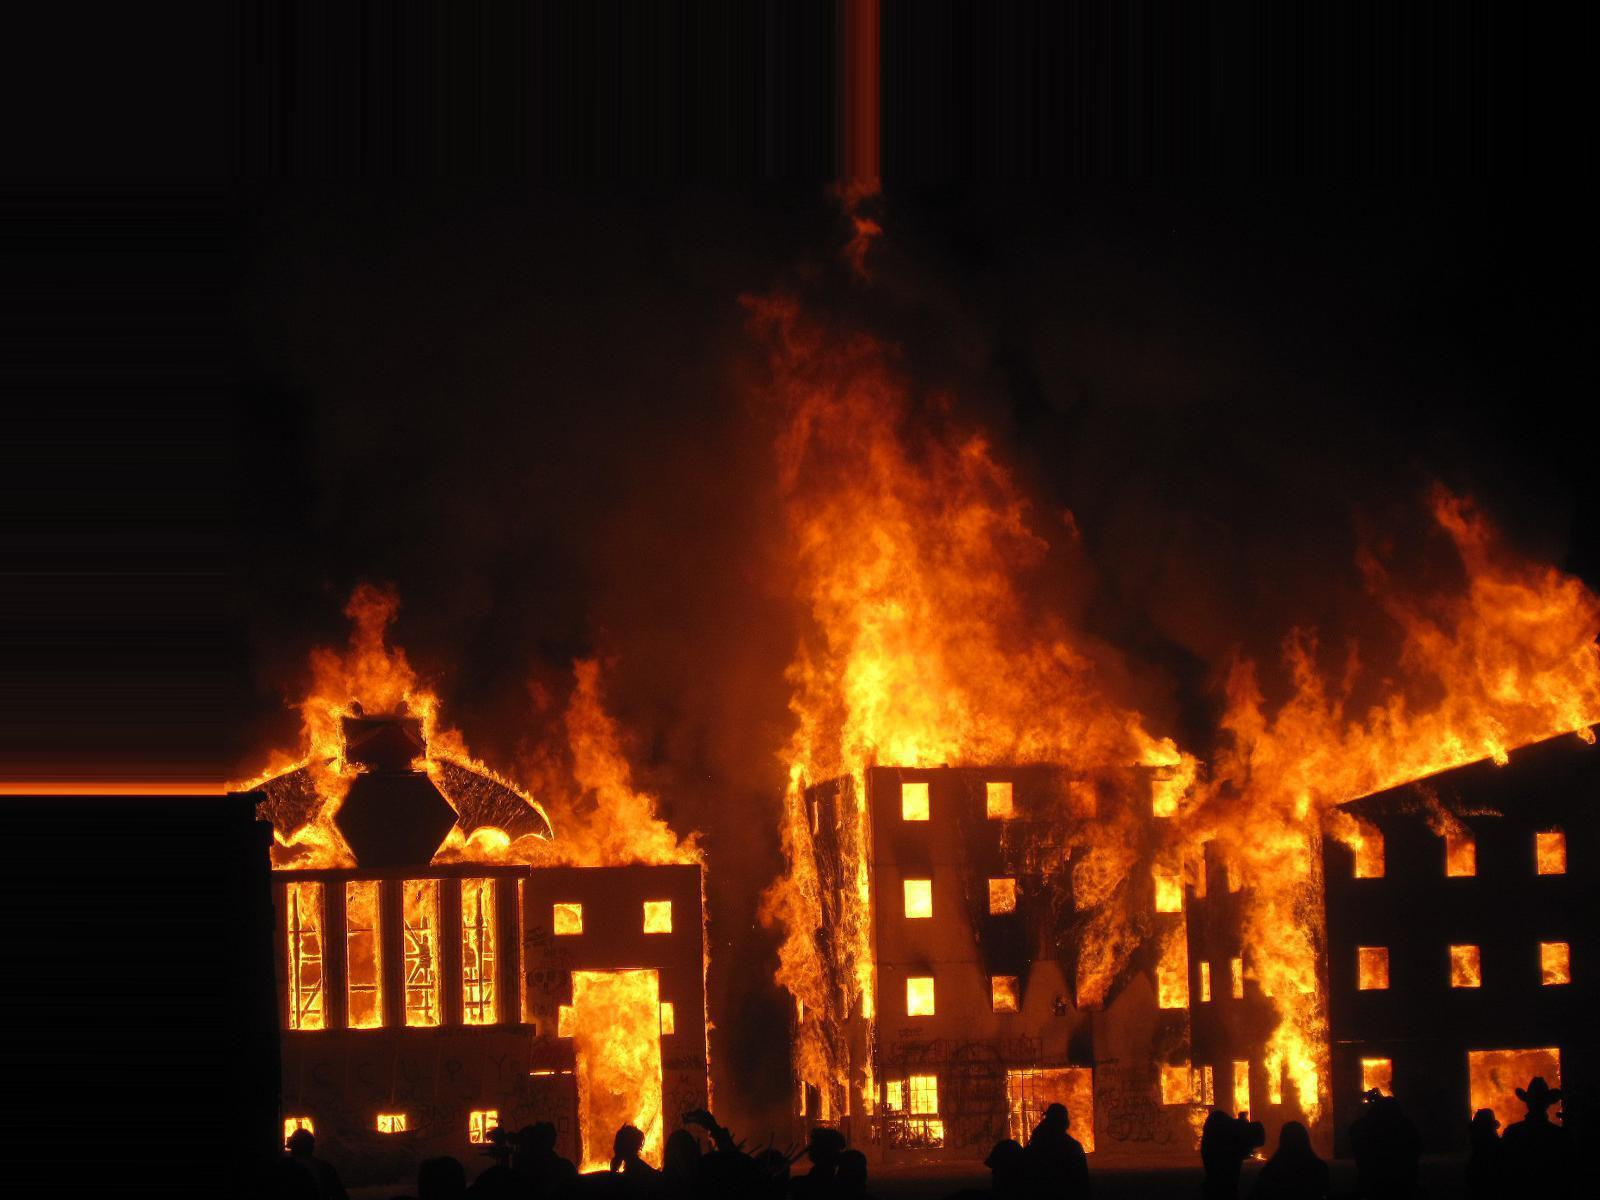fire: (757, 184, 1240, 1158), (223, 534, 708, 1172), (1249, 421, 1582, 1165)
